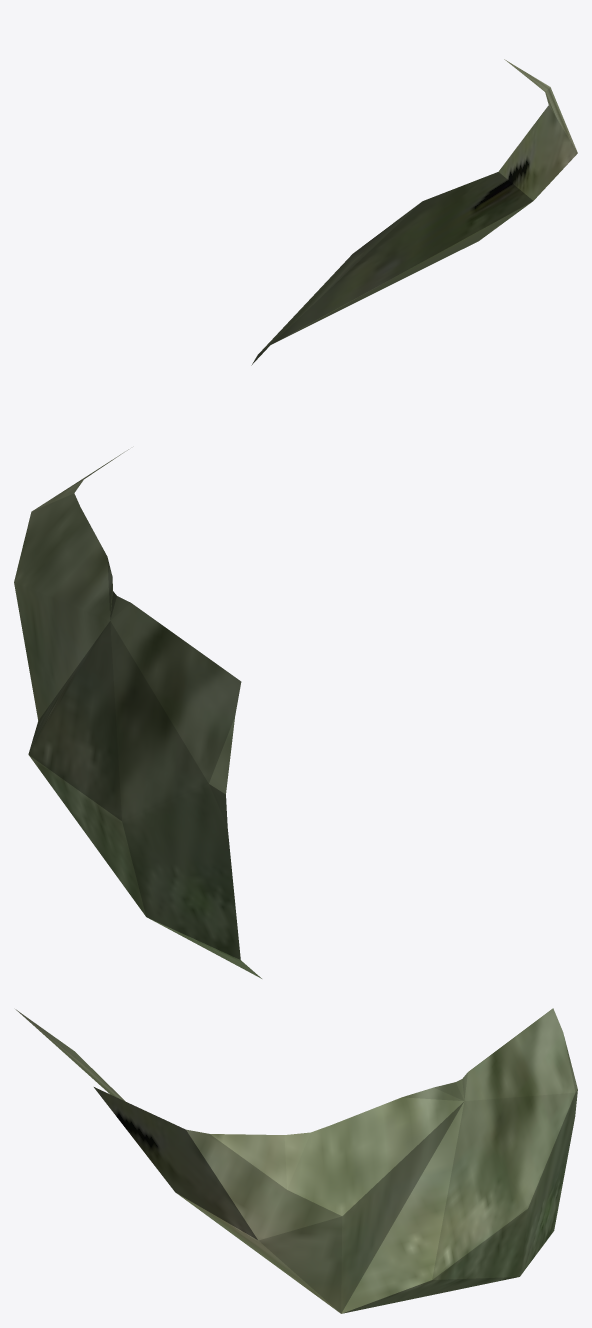
3 views of the same model, one above another, from view 1: azimuth 30°, elevation 25°; view 2: azimuth 150°, elevation 25°; view 3: azimuth 270°, elevation 25° (orthographic). The views are drawn at different scales.
Bounding box in the file's own units: 0.665 × 0.5159 × 1.05.
1 material, 1 textured.
